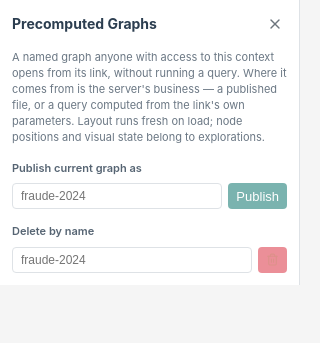
Test: PrecomputedGraphPanel › saving › blocks while node properties are still loading
Type "c1" into the field with test id "precomputed-graph-name-input" at coordinates (117, 196), box [12,183,222,209]
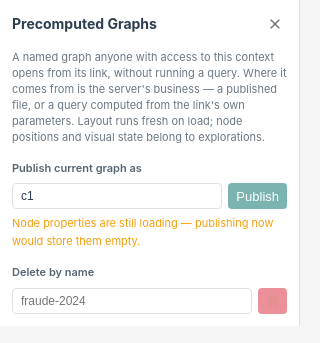
Expected: the button with test id "precomputed-graph-save-button" is disabled, [228,183,287,209]
Now the text "still loading" is shown, box [12,216,274,248]
